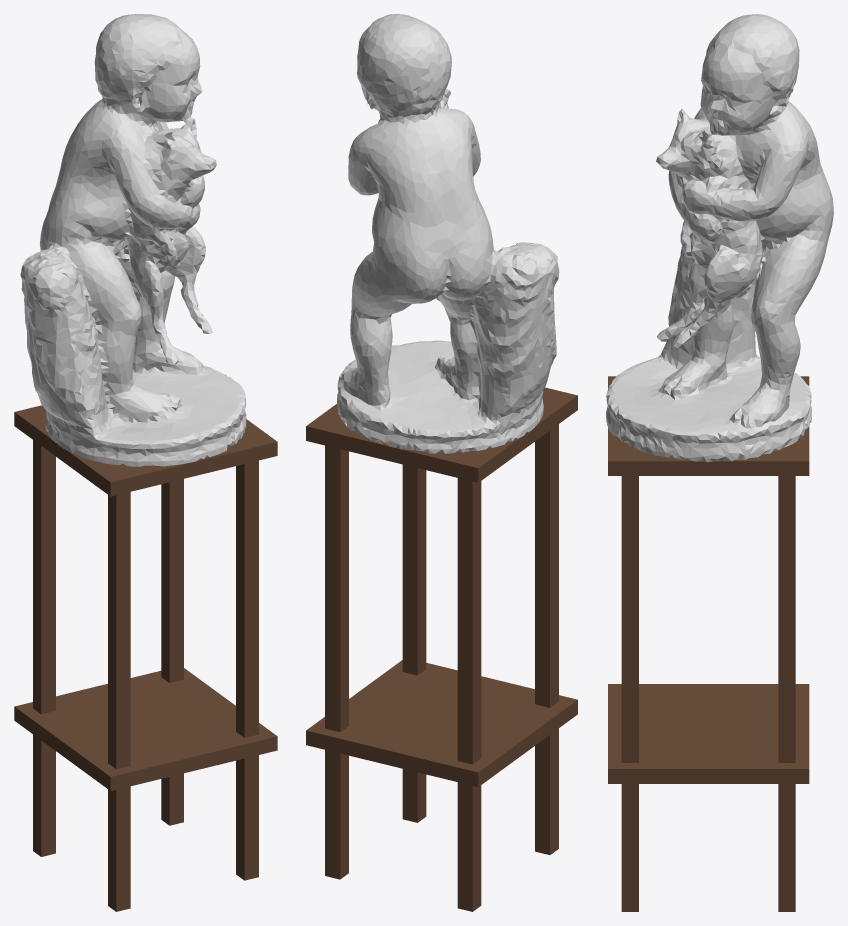
The model's file is Sculpture_1.fbx.
3 views of the same model, side by side, from view 1: azimuth 30°, elevation 25°; view 2: azimuth 150°, elevation 25°; view 3: azimuth 270°, elevation 25° (orthographic). The views are drawn at different scales.
Parts seen in each view (by area): view 1: enfant_au_chien_threedscans.001; view 2: enfant_au_chien_threedscans.001; view 3: enfant_au_chien_threedscans.001.
Part boxes in pixels (x1,y1,x2,y2): enfant_au_chien_threedscans.001: (14, 14, 277, 911); enfant_au_chien_threedscans.001: (306, 14, 577, 911); enfant_au_chien_threedscans.001: (606, 14, 833, 911).
Size of the model in its own units: 48.22 by 191 by 45.59.
